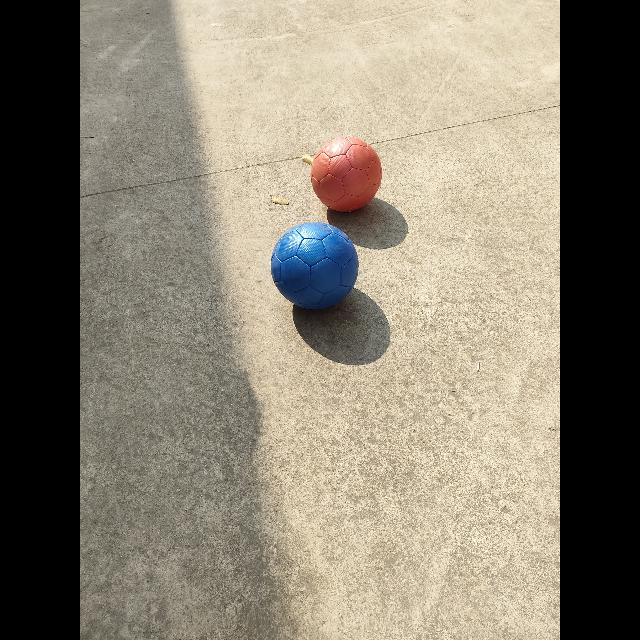B: (270, 222, 359, 313)
R: (309, 136, 383, 215)
